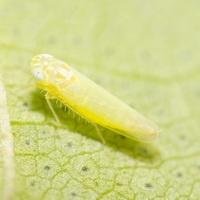insect: (30, 54, 157, 141)
